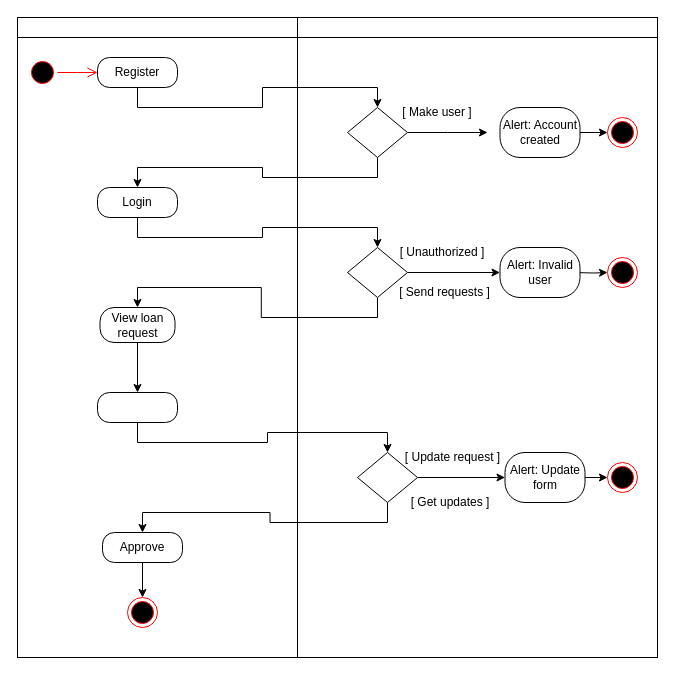
Some shapes in this 675 by 675 pixel diagram are drawn without their labels. Each missing label, with the centre of its shape:
Admin: (x=157, y=27)
Assign changes: (x=137, y=407)
Loan management software: (x=477, y=27)
